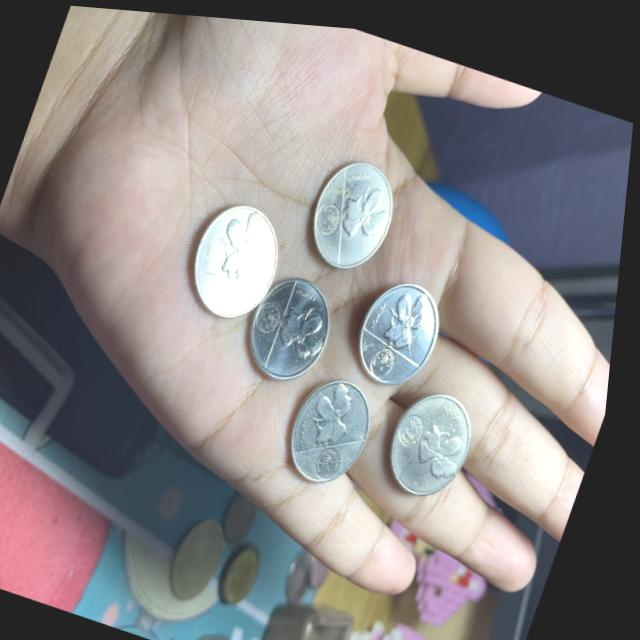25Cent_New_Back: (304, 366, 370, 448), (374, 271, 444, 347), (417, 403, 484, 479), (344, 166, 399, 240), (283, 293, 334, 362)
